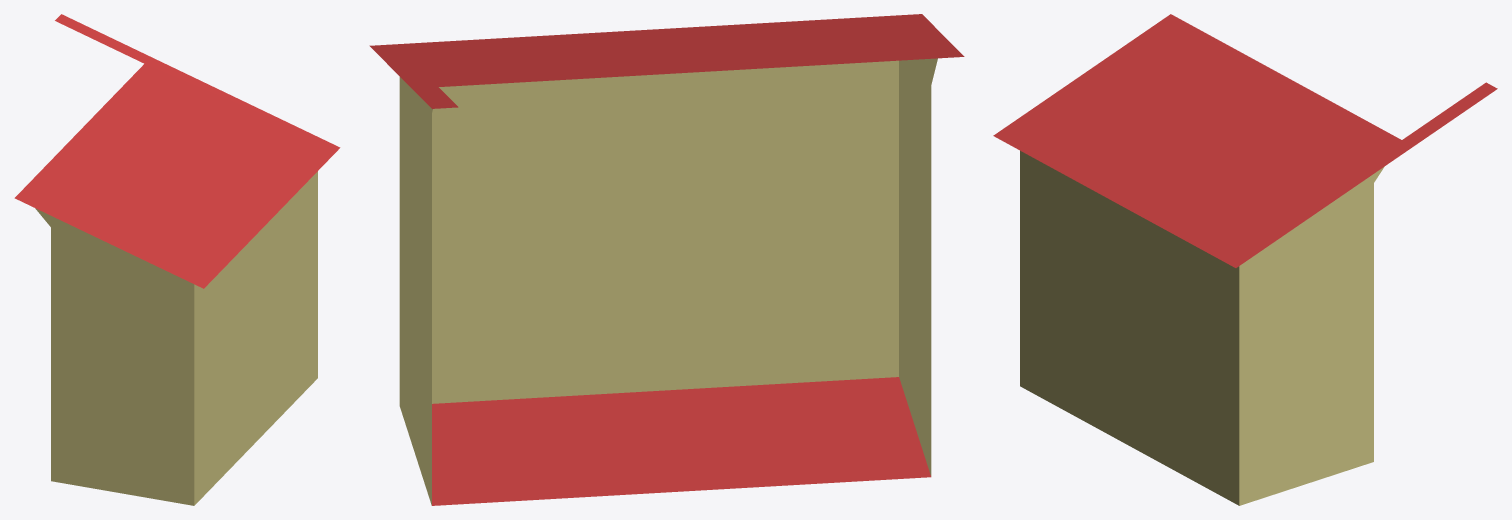
The picture shows the model from 3 angles, left to right: view 1: azimuth 30°, elevation 25°; view 2: azimuth 150°, elevation 25°; view 3: azimuth 270°, elevation 25°; orthographic projection. The views are drawn at different scales.
Bounding box in the file's own units: 11.79 × 13.19 × 9.88.
